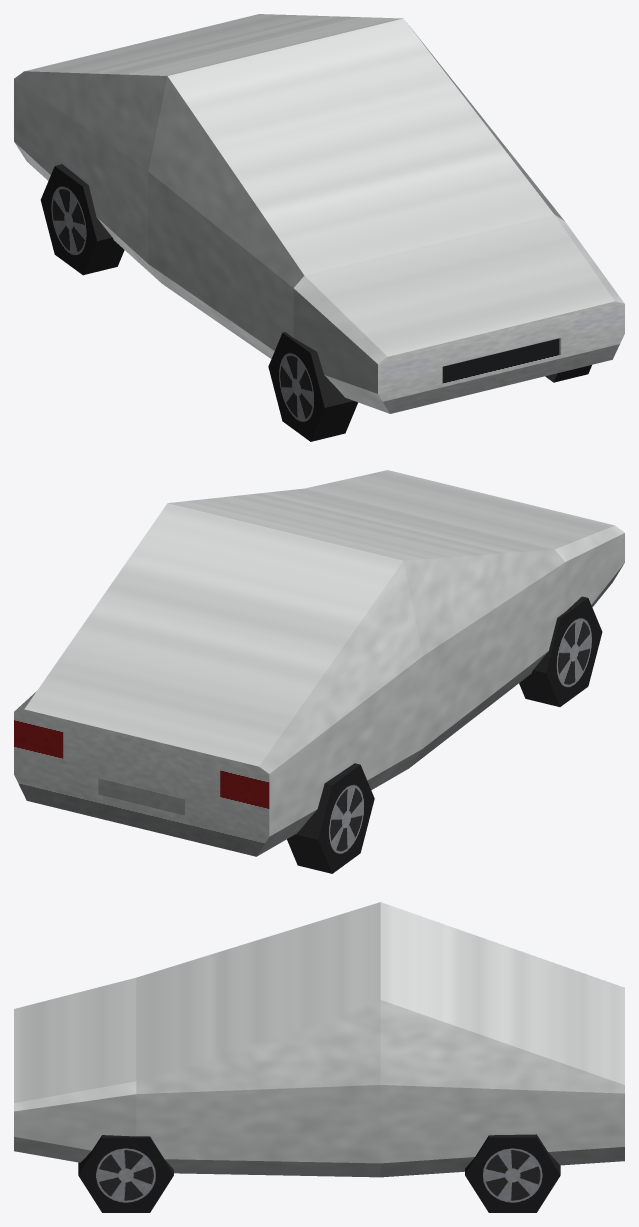
The model's file is SM_Morin_Auto_A_LOD2.fbx.
3 views of the same model, one above another, from view 1: azimuth 30°, elevation 25°; view 2: azimuth 150°, elevation 25°; view 3: azimuth 270°, elevation 25° (orthographic). The views are drawn at different scales.
Visible parts, largest first — view 1: SM_Morin_Auto_A_LOD2; view 2: SM_Morin_Auto_A_LOD2; view 3: SM_Morin_Auto_A_LOD2.
Boxes of the visible parts, x1=… form: SM_Morin_Auto_A_LOD2: x1=14, y1=14, x2=624, y2=441; SM_Morin_Auto_A_LOD2: x1=14, y1=470, x2=624, y2=873; SM_Morin_Auto_A_LOD2: x1=14, y1=902, x2=624, y2=1212.
Bounding box in the file's own units: 176 × 395 × 146.
1 material, 1 textured.
